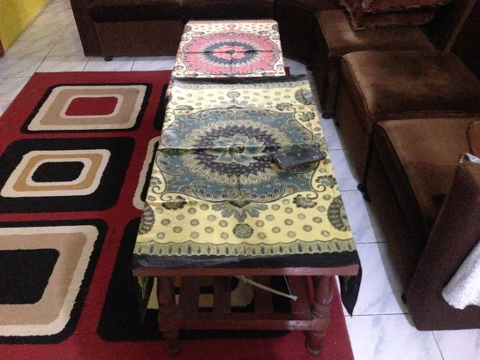meja: (129, 77, 360, 354)
